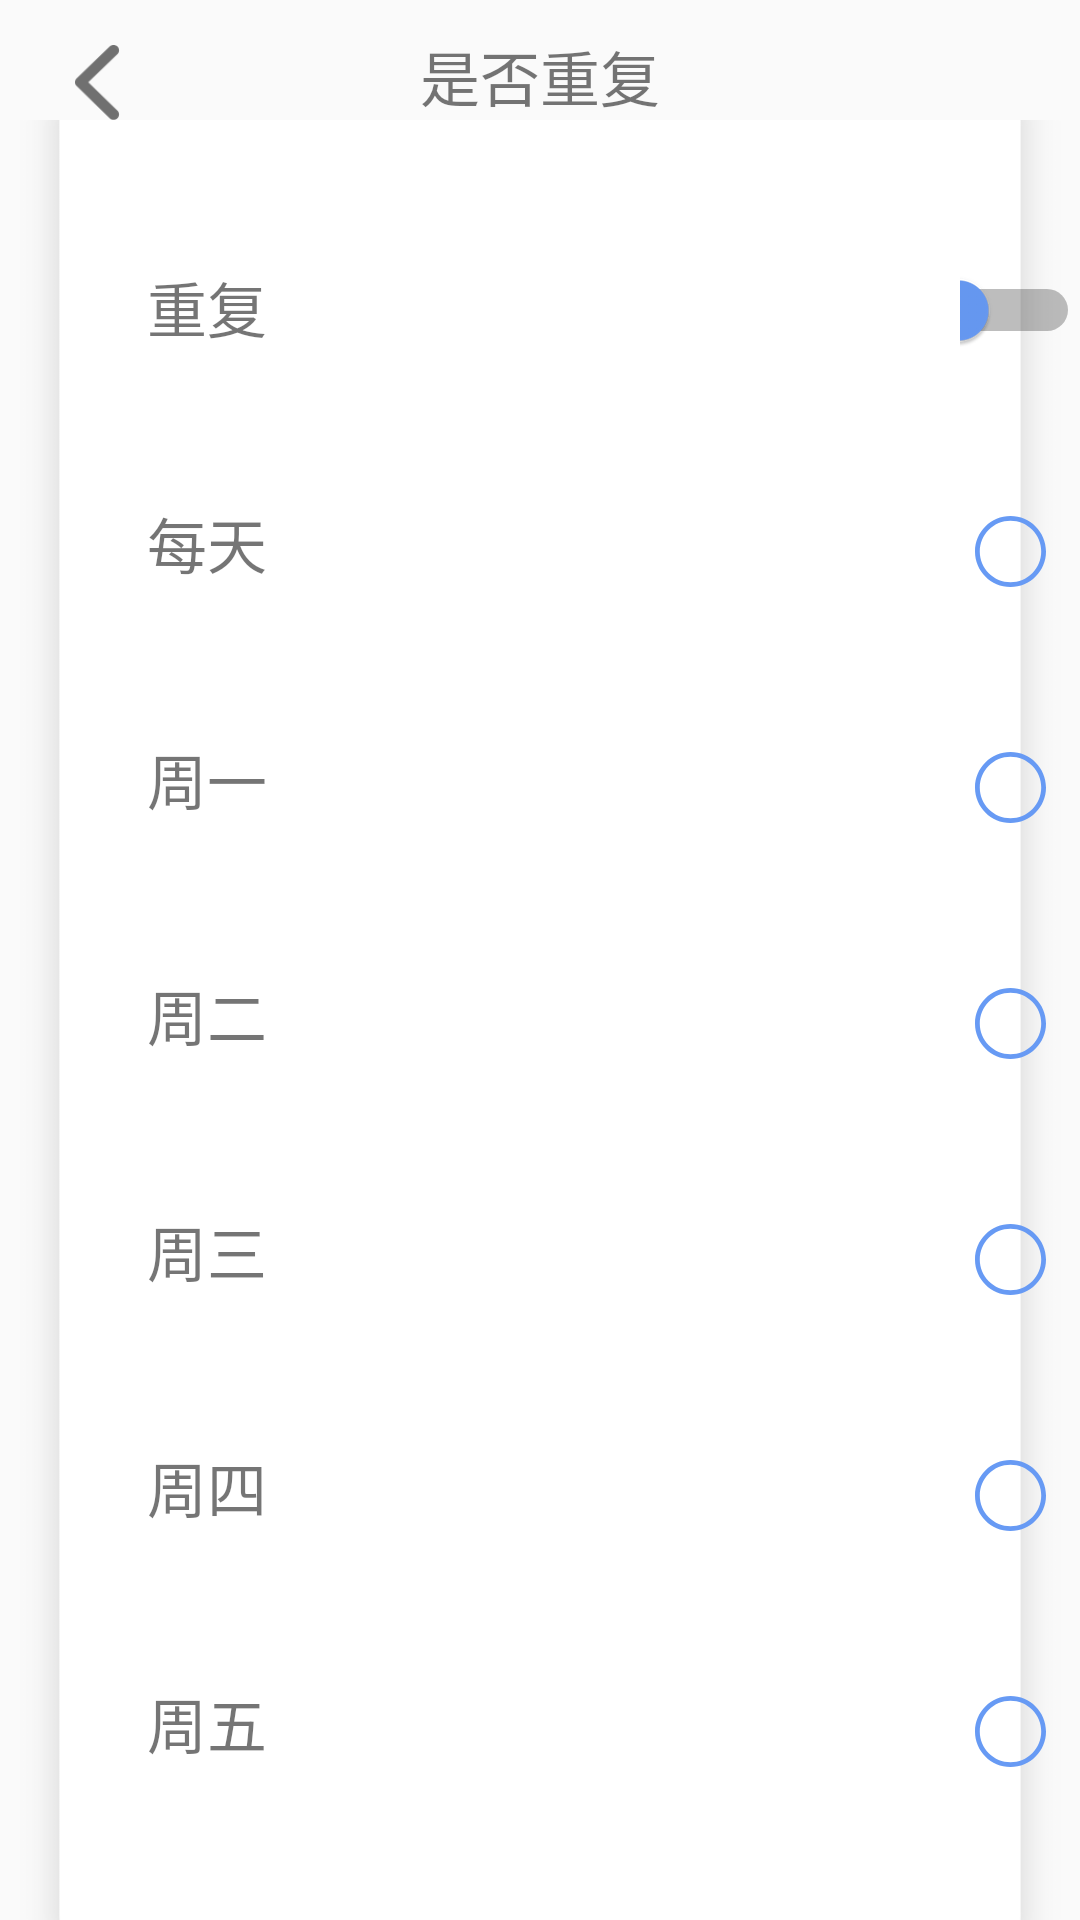

Where to tap for icons on this 1080px x 1920px app screen, as (x,y):
checkbox: (1010,551), (1010,787), (1010,1023), (1010,1259), (1010,1495), (1010,1731)
